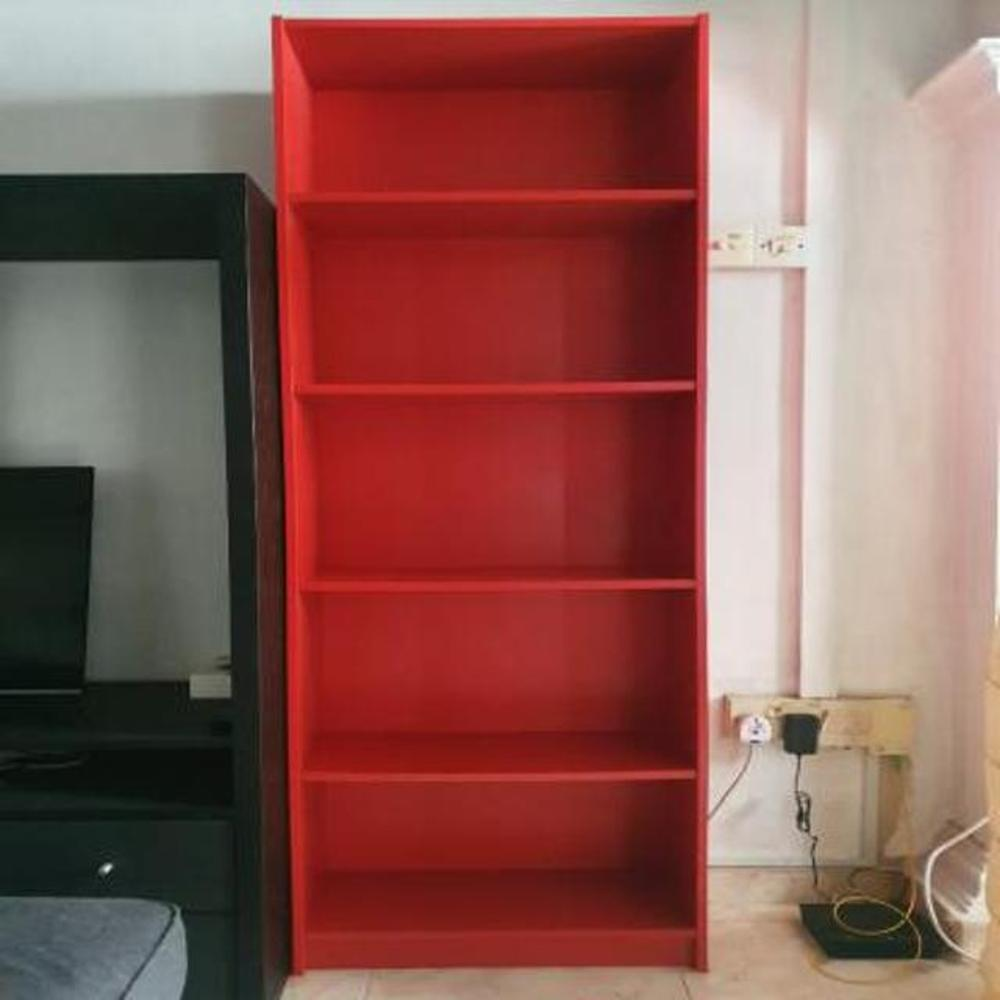lamp: (263, 12, 718, 981)
